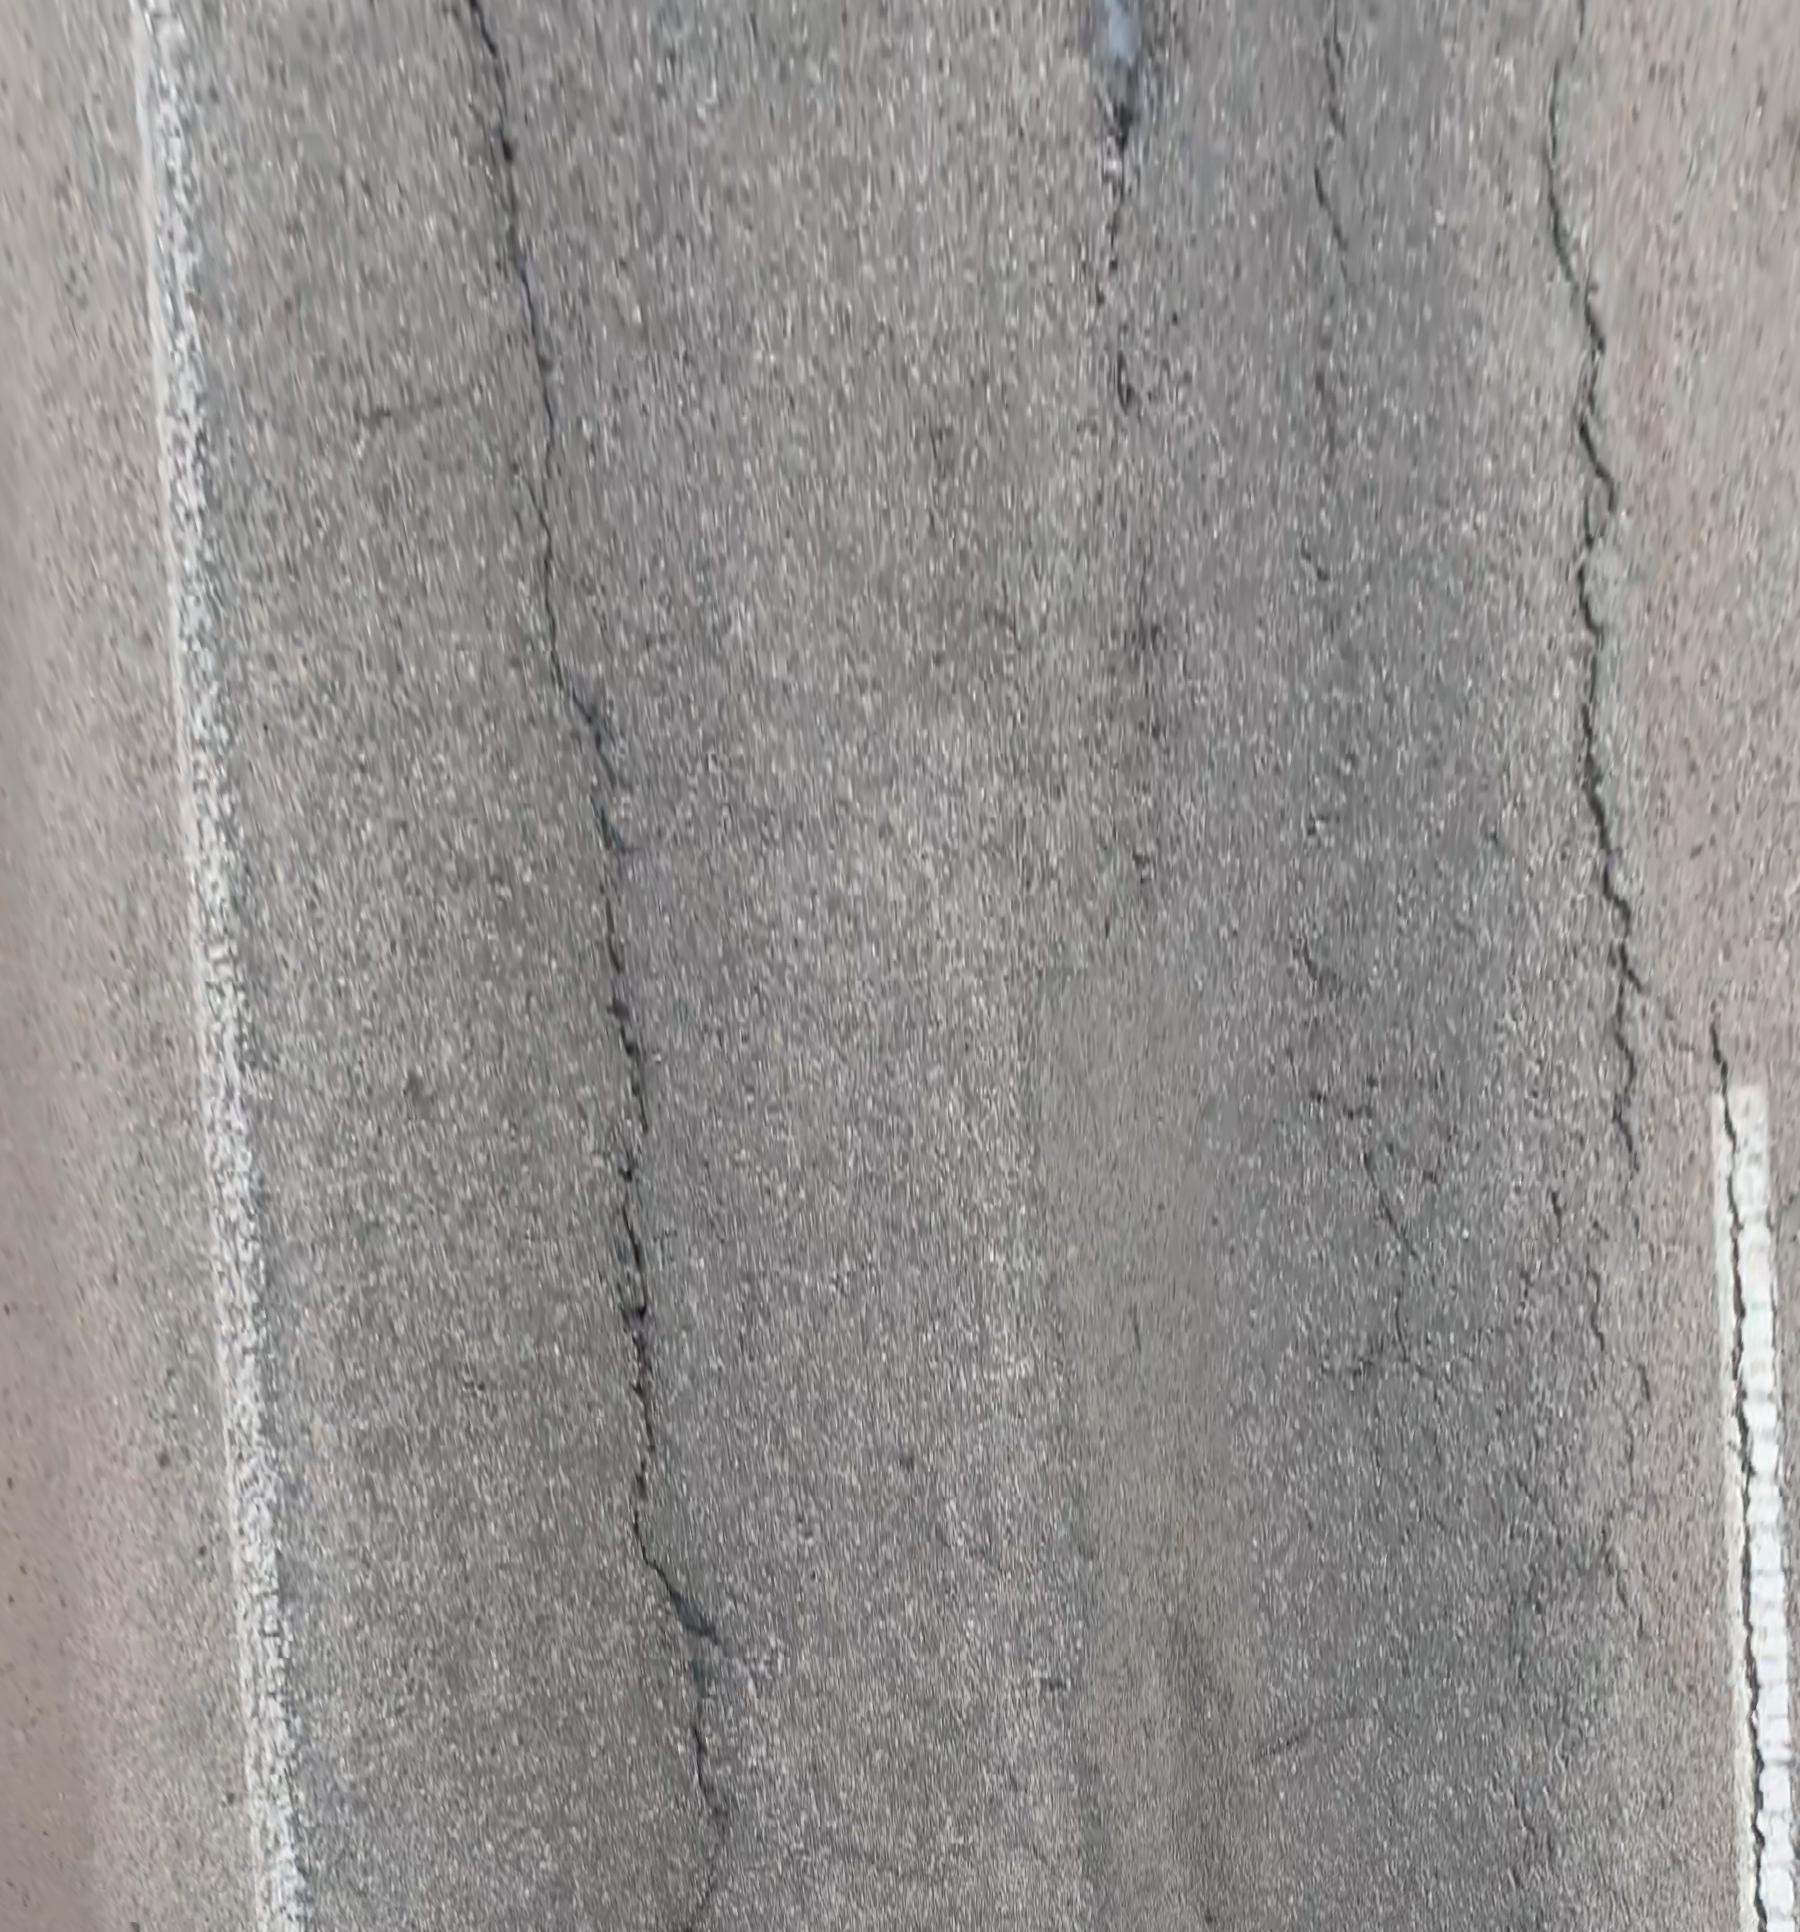pothole_patch_poor: (1069, 0, 1172, 188)
